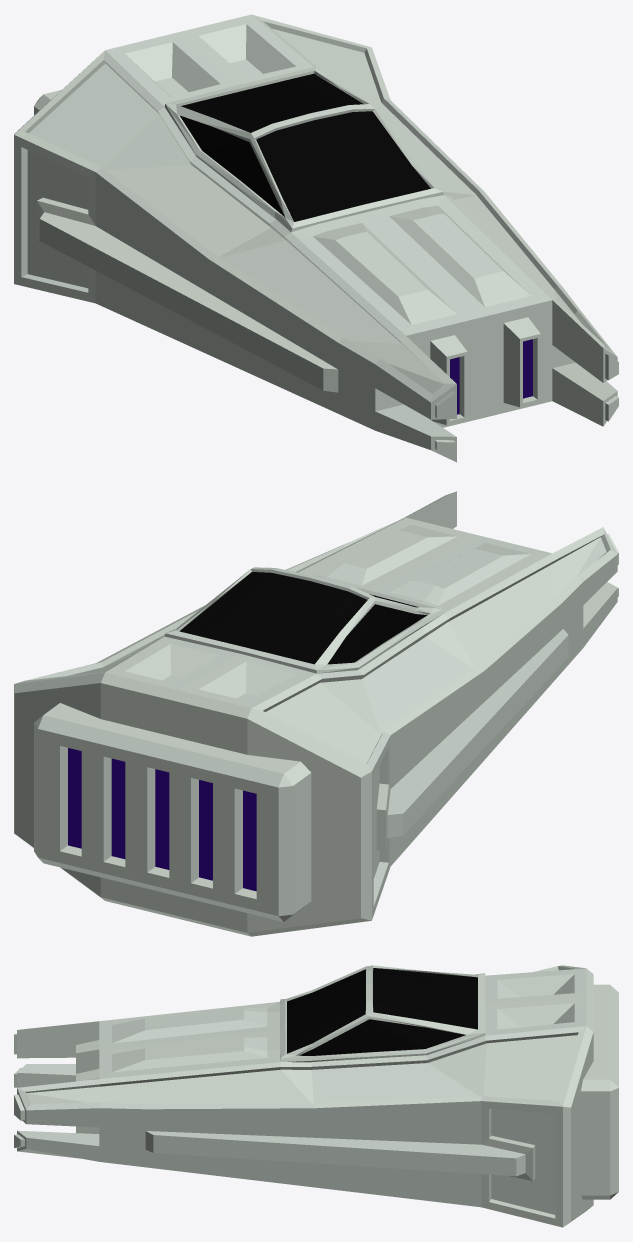
File: Salvage.fbx
3 renders of one model, top to bottom at view 1: azimuth 30°, elevation 25°; view 2: azimuth 150°, elevation 25°; view 3: azimuth 270°, elevation 25°, orthographic. The views are drawn at different scales.
Parts seen in each view (by area): view 1: Ship; view 2: Ship; view 3: Ship.
Boxes of the visible parts, x1,y1,x2,y2 form: Ship: (14,14,618,462); Ship: (14,491,618,936); Ship: (14,965,618,1227).
Bounding box in the file's own units: 662 × 425 × 1179.
